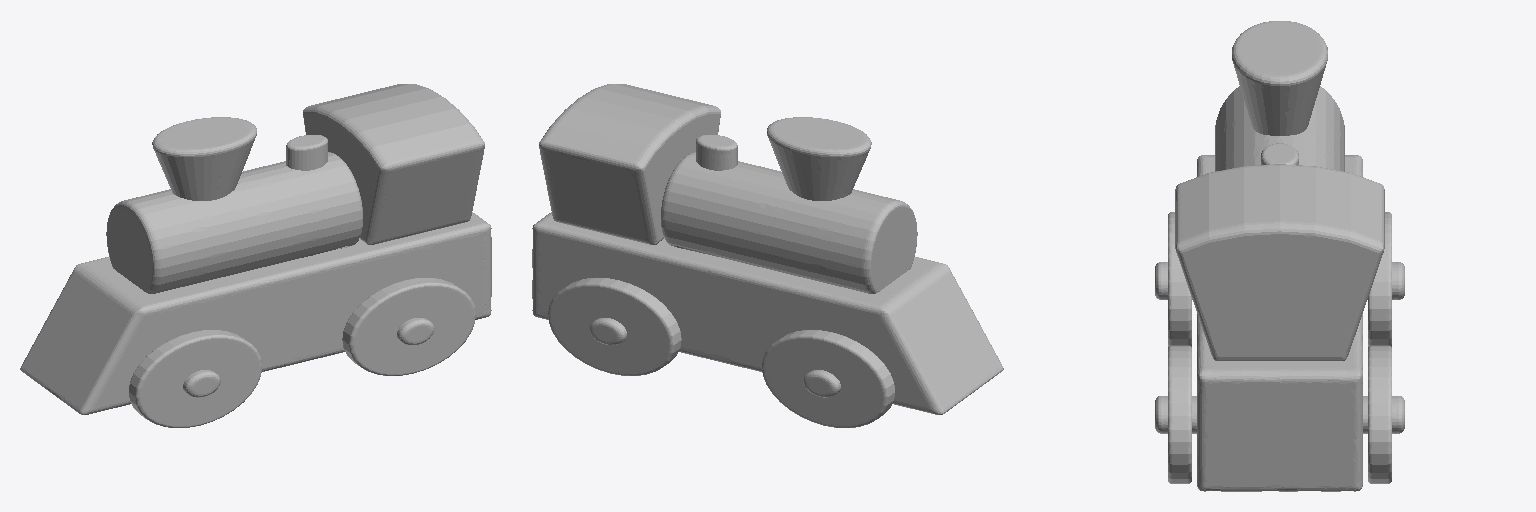
URDF robot description (root):
<robot name="root">
  <link name="link_001">
    <visual>
      <origin xyz="0 0 0" rpy="0 0 0"/>
      <geometry>
        <mesh filename="train.obj" scale="1.5000E+00 1.0000E+00 1.0000E+00"/>
      </geometry>
      <material name="">
        <color rgba="7.50E-01 7.50E-01 7.50E-01 1"/>
      </material>
    </visual>
    <collision>
      <origin xyz="0 0 0" rpy="0 0 0"/>
      <geometry>
        <mesh filename="train.obj" scale="1.5000E+00 1.0000E+00 1.0000E+00"/>
      </geometry>
    </collision>
    <inertial>
      <mass value="0.16"/> <!-- 质量：0.1kg -->
    </inertial>
  </link>
</robot>

--- What the picture shows (computed from the rendered views, not written in the file) ---
Views: 3 orthographic renders of the robot side by side, from view 1: azimuth 30°, elevation 25°; view 2: azimuth 150°, elevation 25°; view 3: azimuth 270°, elevation 25°.
Model root with 1 links and 0 joints (none), rooted at link_001, posed every joint at zero.
Visible links, largest first — view 1: link_001; view 2: link_001; view 3: link_001.
Boxes of the visible links, bbox=[...] form: link_001: bbox=[20, 84, 491, 427]; link_001: bbox=[532, 84, 1003, 427]; link_001: bbox=[1155, 21, 1404, 491].
Size in the robot's own frame: 0.1455 by 0.0598 by 0.0842 metres.
1 mesh visuals loaded from 1 distinct referenced files (1 OBJ).
